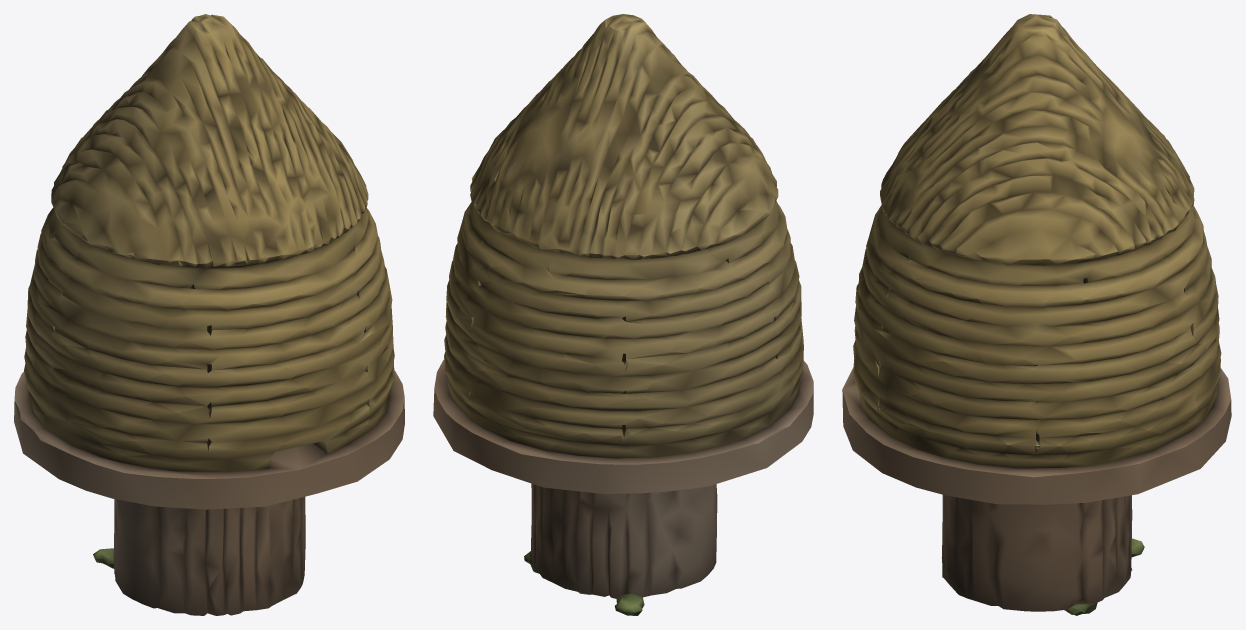
The model's file is lm_hive_skep.glb.
3 views of the same model, side by side, from view 1: azimuth 30°, elevation 25°; view 2: azimuth 150°, elevation 25°; view 3: azimuth 270°, elevation 25° (orthographic). The views are drawn at different scales.
Parts seen in each view (by area): view 1: lm_hive_skep_LOD0; view 2: lm_hive_skep_LOD0; view 3: lm_hive_skep_LOD0.
Part boxes in pixels (x1,y1,x2,y2): lm_hive_skep_LOD0: [14, 14, 404, 615]; lm_hive_skep_LOD0: [433, 14, 813, 615]; lm_hive_skep_LOD0: [842, 14, 1231, 615].
Size of what is drawn, in the model's own units: 0.698 by 1.12 by 0.6978.
